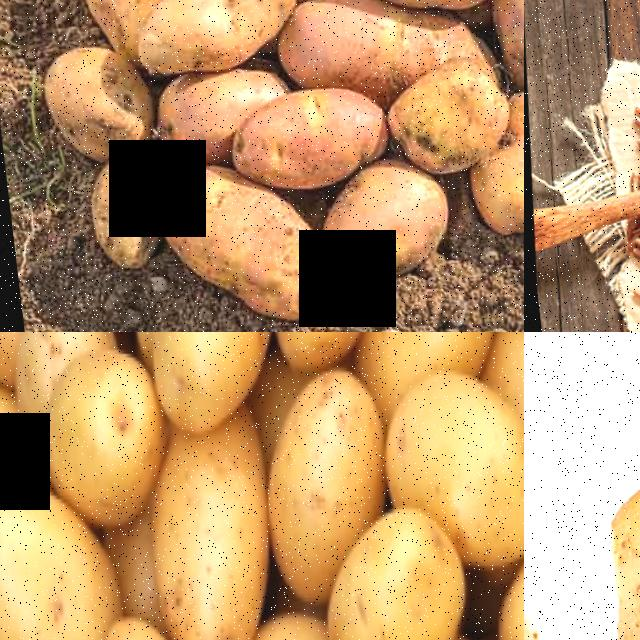potato: (125, 416, 280, 640), (133, 153, 324, 332), (363, 366, 524, 576), (245, 366, 390, 547), (29, 345, 166, 532), (304, 499, 472, 640), (0, 472, 129, 640), (570, 338, 640, 640), (301, 165, 451, 299), (210, 79, 383, 192), (369, 57, 507, 186), (119, 0, 298, 87), (23, 41, 149, 157), (135, 332, 285, 425), (71, 144, 162, 276), (472, 97, 524, 247), (265, 332, 381, 376), (487, 0, 524, 97)
